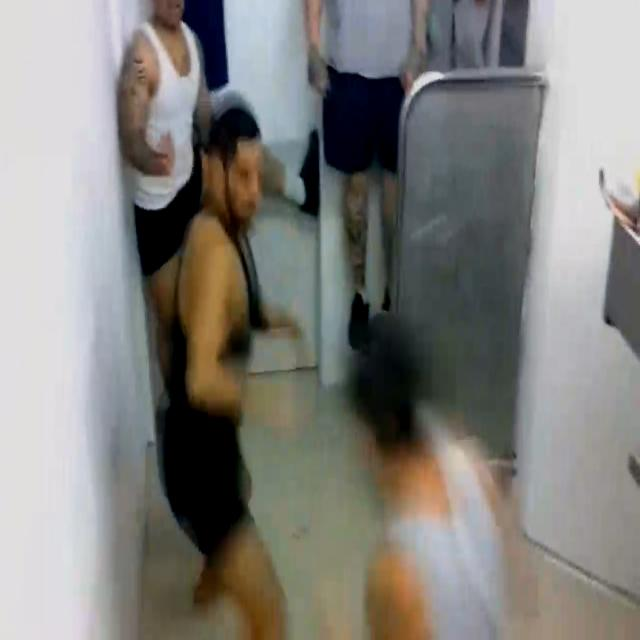fight: (164, 103, 526, 555)
